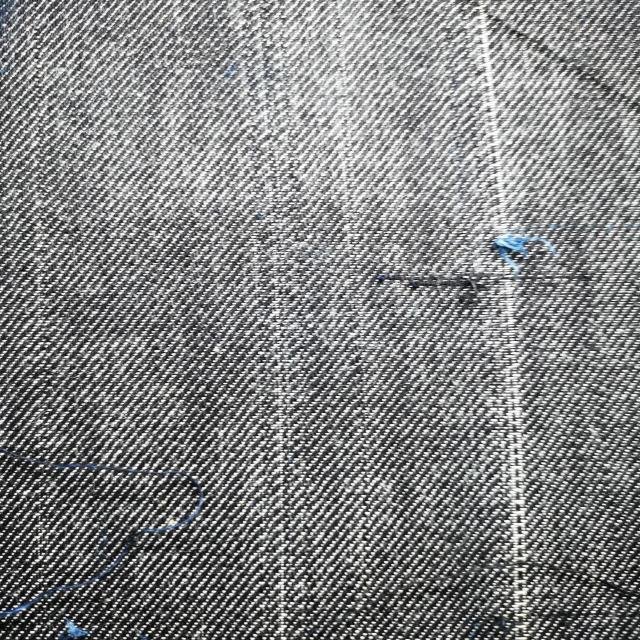defect: (371, 270, 573, 306)
